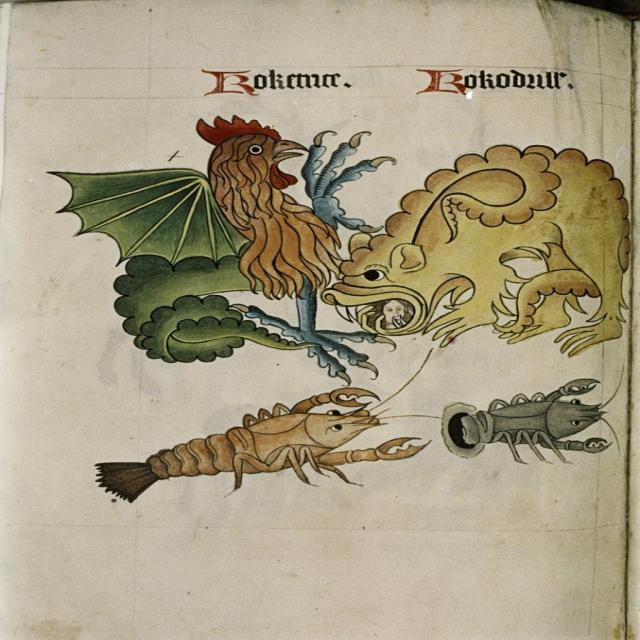Chicken: (184, 116, 344, 298)
